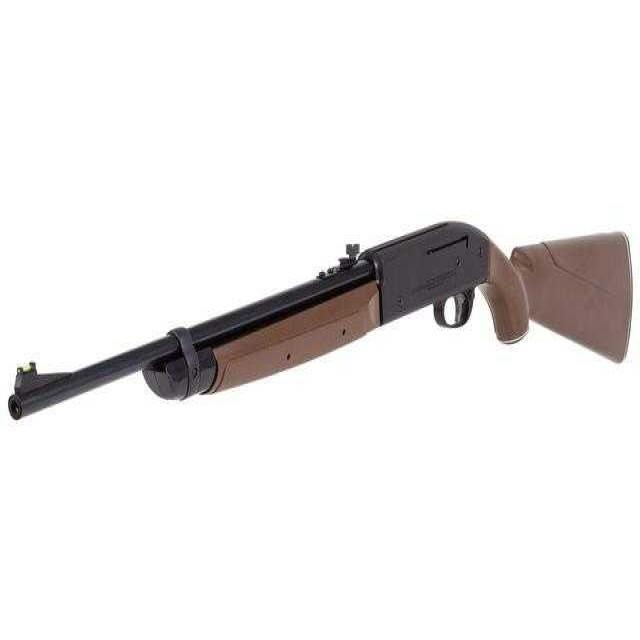weapon: (1, 214, 635, 466)
